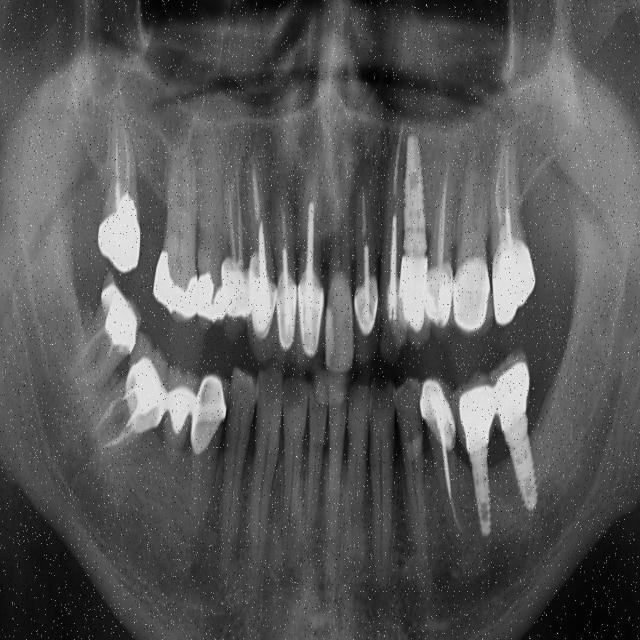implant: (393, 125, 434, 342), (492, 350, 540, 518), (464, 380, 498, 539)
kanal-tedavisi: (478, 139, 524, 260), (63, 323, 118, 403), (103, 107, 138, 217), (379, 152, 406, 294), (246, 163, 276, 288), (222, 157, 252, 281), (429, 146, 456, 281), (430, 439, 464, 543), (96, 385, 138, 467), (272, 183, 296, 310), (353, 189, 381, 290), (299, 183, 322, 297)
kaplama: (140, 247, 209, 321), (490, 228, 540, 328), (90, 199, 148, 275), (100, 272, 142, 360), (124, 361, 170, 431), (456, 252, 491, 332), (195, 370, 223, 462), (425, 375, 457, 454), (350, 273, 382, 339), (299, 270, 322, 360), (274, 273, 300, 350), (428, 261, 455, 333), (220, 256, 250, 317), (251, 276, 277, 335)
kopru: (120, 354, 227, 459)
